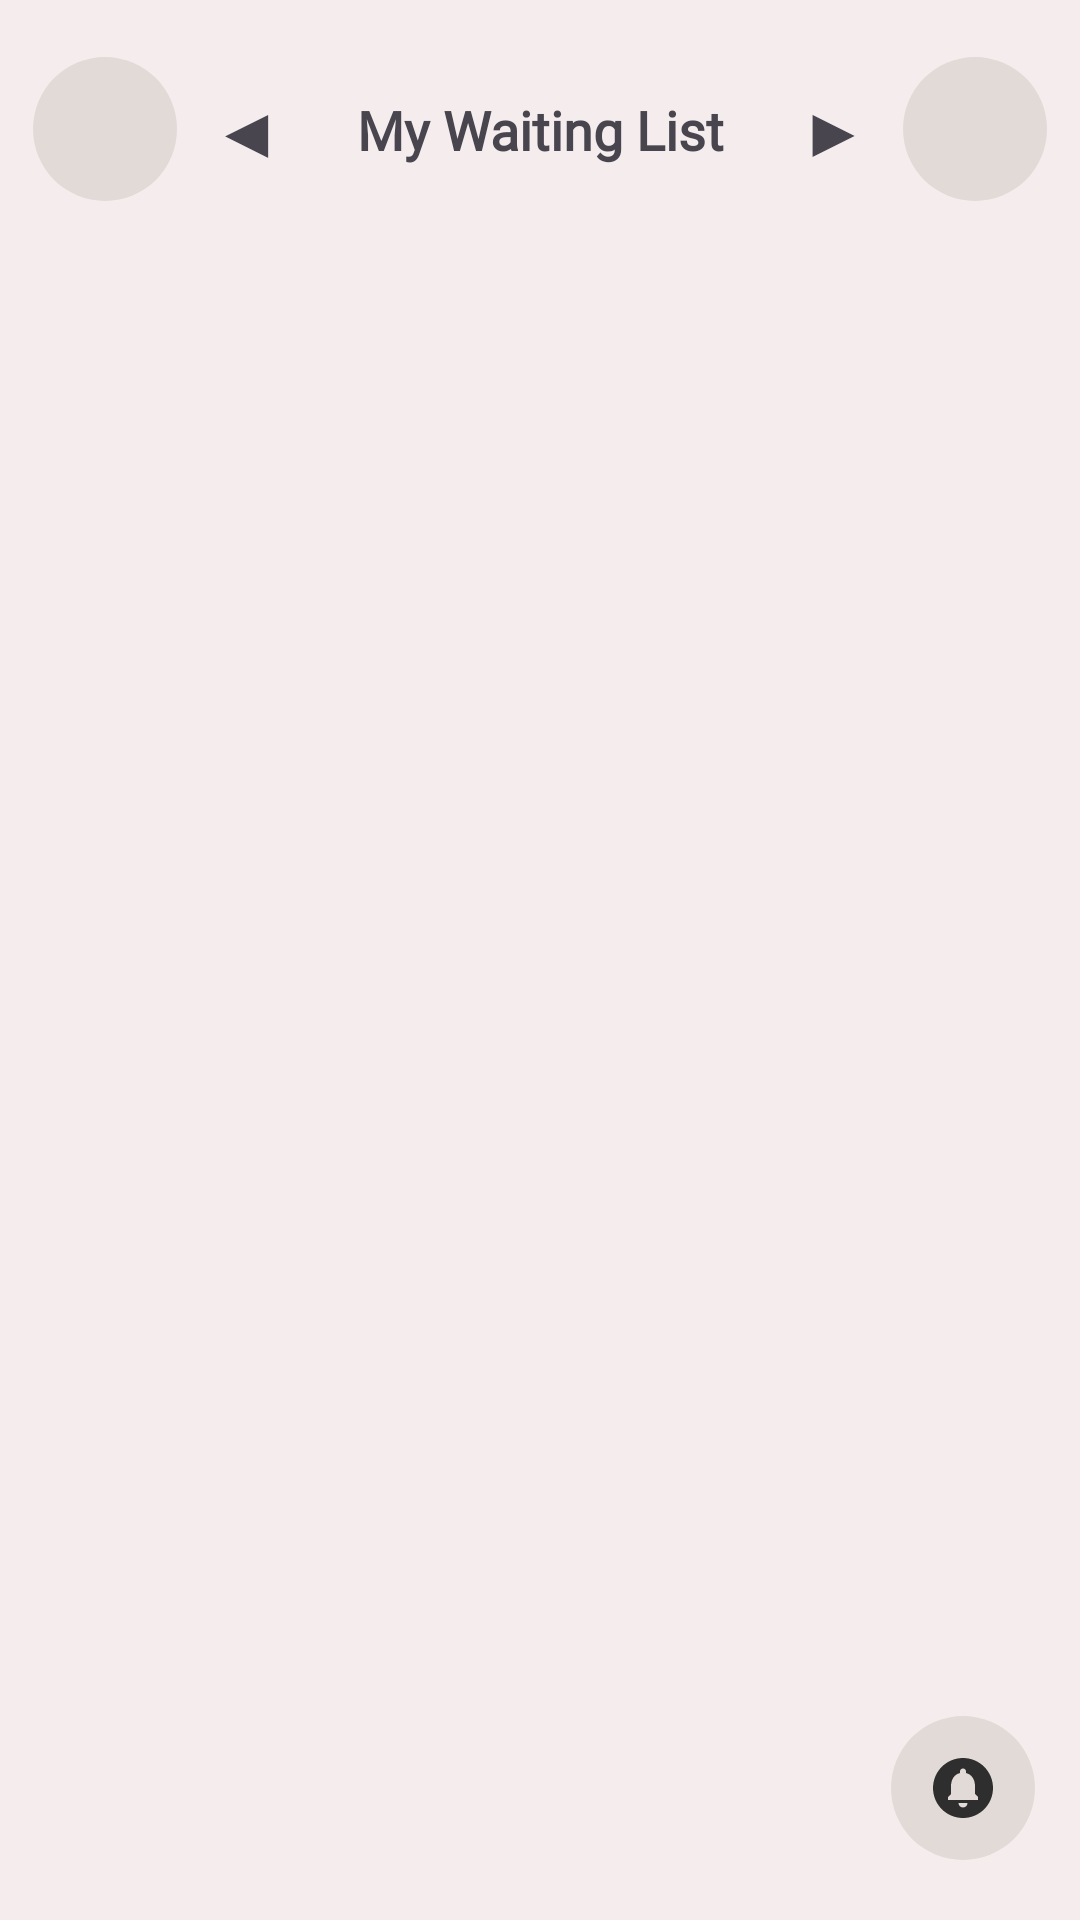

Screen size 1080 × 1920. Icon name, then its center in pixels as (x=x, y=y):
circle notifications: (x=963, y=1788)
